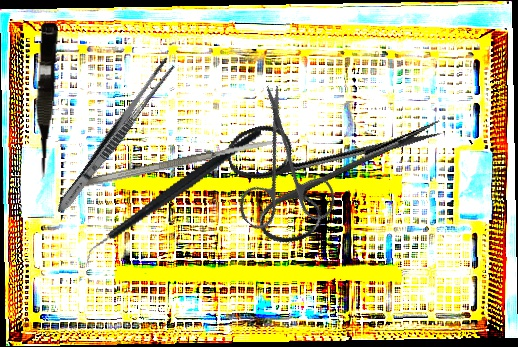Chopper: (62, 125, 284, 270)
Dressing Forceps: (51, 53, 179, 219)
Iris Scissors: (220, 67, 462, 254), (193, 81, 372, 259)
Micro Scissor: (29, 22, 59, 179)
Spatula Surgical: (72, 136, 279, 191)
